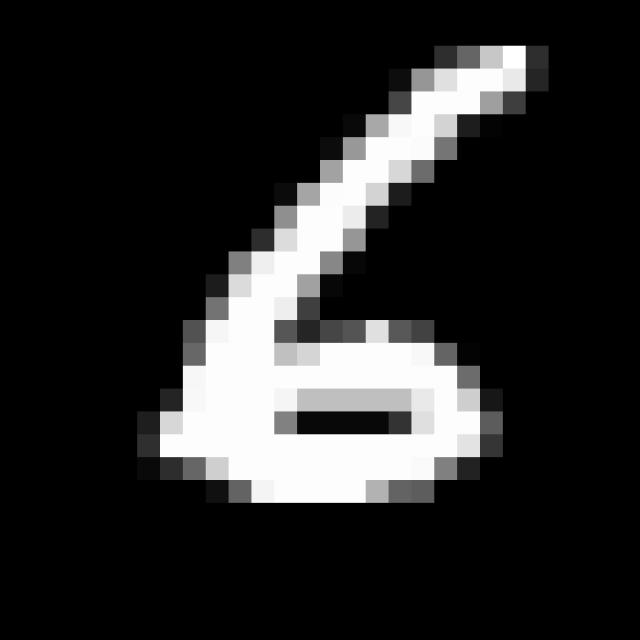six -6-: (151, 37, 538, 514)
